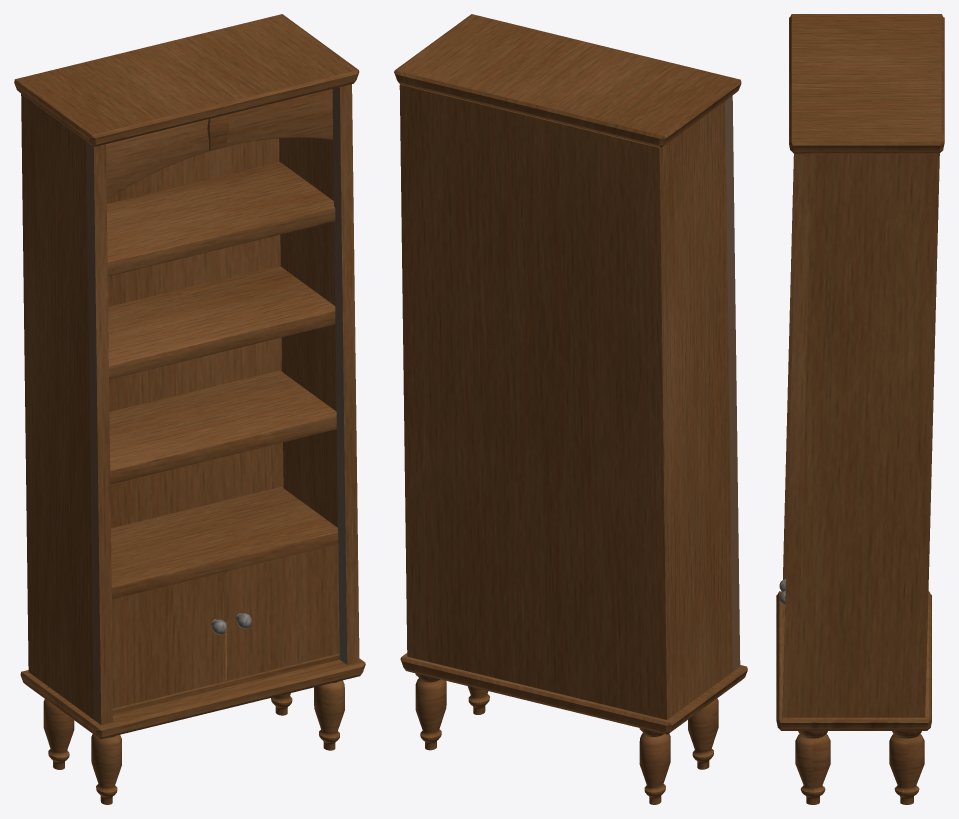
File: 3DArt_Props_Books_Model_Amanda_V1.fbx
The picture shows the model from 3 angles, left to right: view 1: azimuth 30°, elevation 25°; view 2: azimuth 150°, elevation 25°; view 3: azimuth 270°, elevation 25°; orthographic projection. The views are drawn at different scales.
Parts seen in each view (by area): view 1: Box077; view 2: Box077; view 3: Box077.
Part boxes in pixels (x1,y1,x2,y2): Box077: [14, 14, 365, 804]; Box077: [394, 14, 747, 804]; Box077: [776, 14, 944, 804].
Size of the model in its own units: 83.67 by 202 by 45.93.
